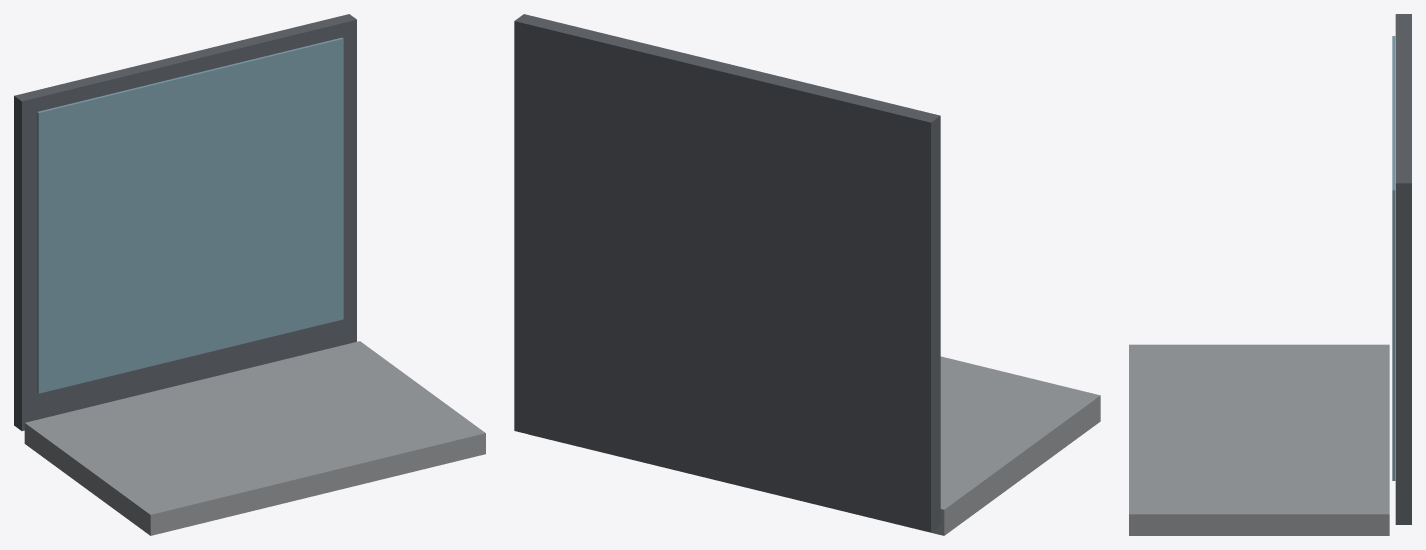
The model's file is laptop.glb.
3 views of the same model, side by side, from view 1: azimuth 30°, elevation 25°; view 2: azimuth 150°, elevation 25°; view 3: azimuth 270°, elevation 25° (orthographic). The views are drawn at different scales.
Visible parts, largest first — view 1: Laptop_Display_2, Laptop_Base_0, Laptop_Lid_1; view 2: Laptop_Lid_1, Laptop_Base_0; view 3: Laptop_Base_0, Laptop_Lid_1, Laptop_Display_2.
Boxes of the visible parts, x1=… form: Laptop_Display_2: x1=37, y1=37, x2=343, y2=393; Laptop_Base_0: x1=24, y1=341, x2=485, y2=535; Laptop_Lid_1: x1=14, y1=14, x2=356, y2=430; Laptop_Lid_1: x1=514, y1=14, x2=940, y2=532; Laptop_Base_0: x1=528, y1=356, x2=1100, y2=535; Laptop_Base_0: x1=1129, y1=344, x2=1389, y2=535; Laptop_Lid_1: x1=1395, y1=14, x2=1411, y2=524; Laptop_Display_2: x1=1392, y1=36, x2=1395, y2=480.
Size of the model in its own units: 1 by 0.97 by 0.705.
